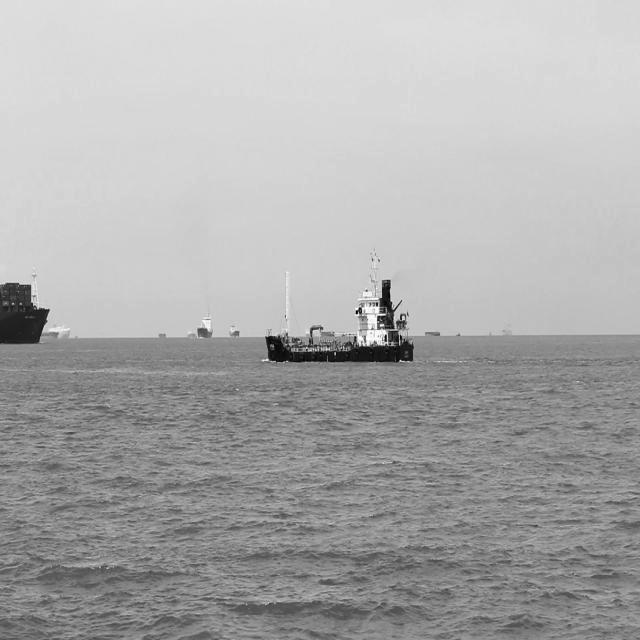ship: (262, 242, 417, 367), (1, 259, 52, 350), (43, 322, 74, 344), (197, 308, 216, 342), (227, 320, 242, 343), (424, 323, 442, 341), (500, 319, 515, 339), (156, 326, 170, 344), (186, 327, 197, 344)
